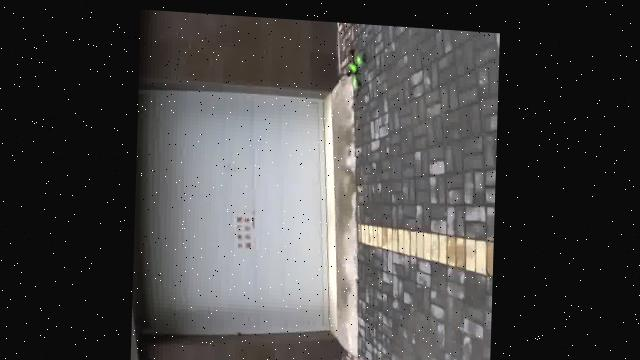drone: (338, 33, 372, 95)
